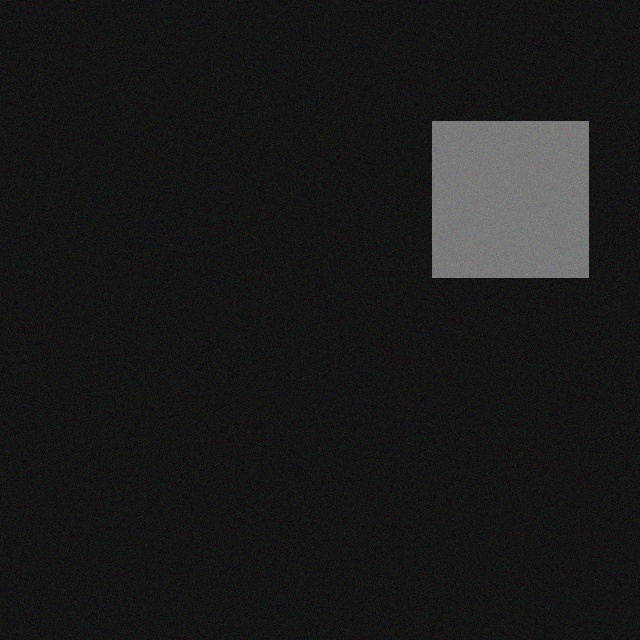square: (434, 121, 590, 277)
